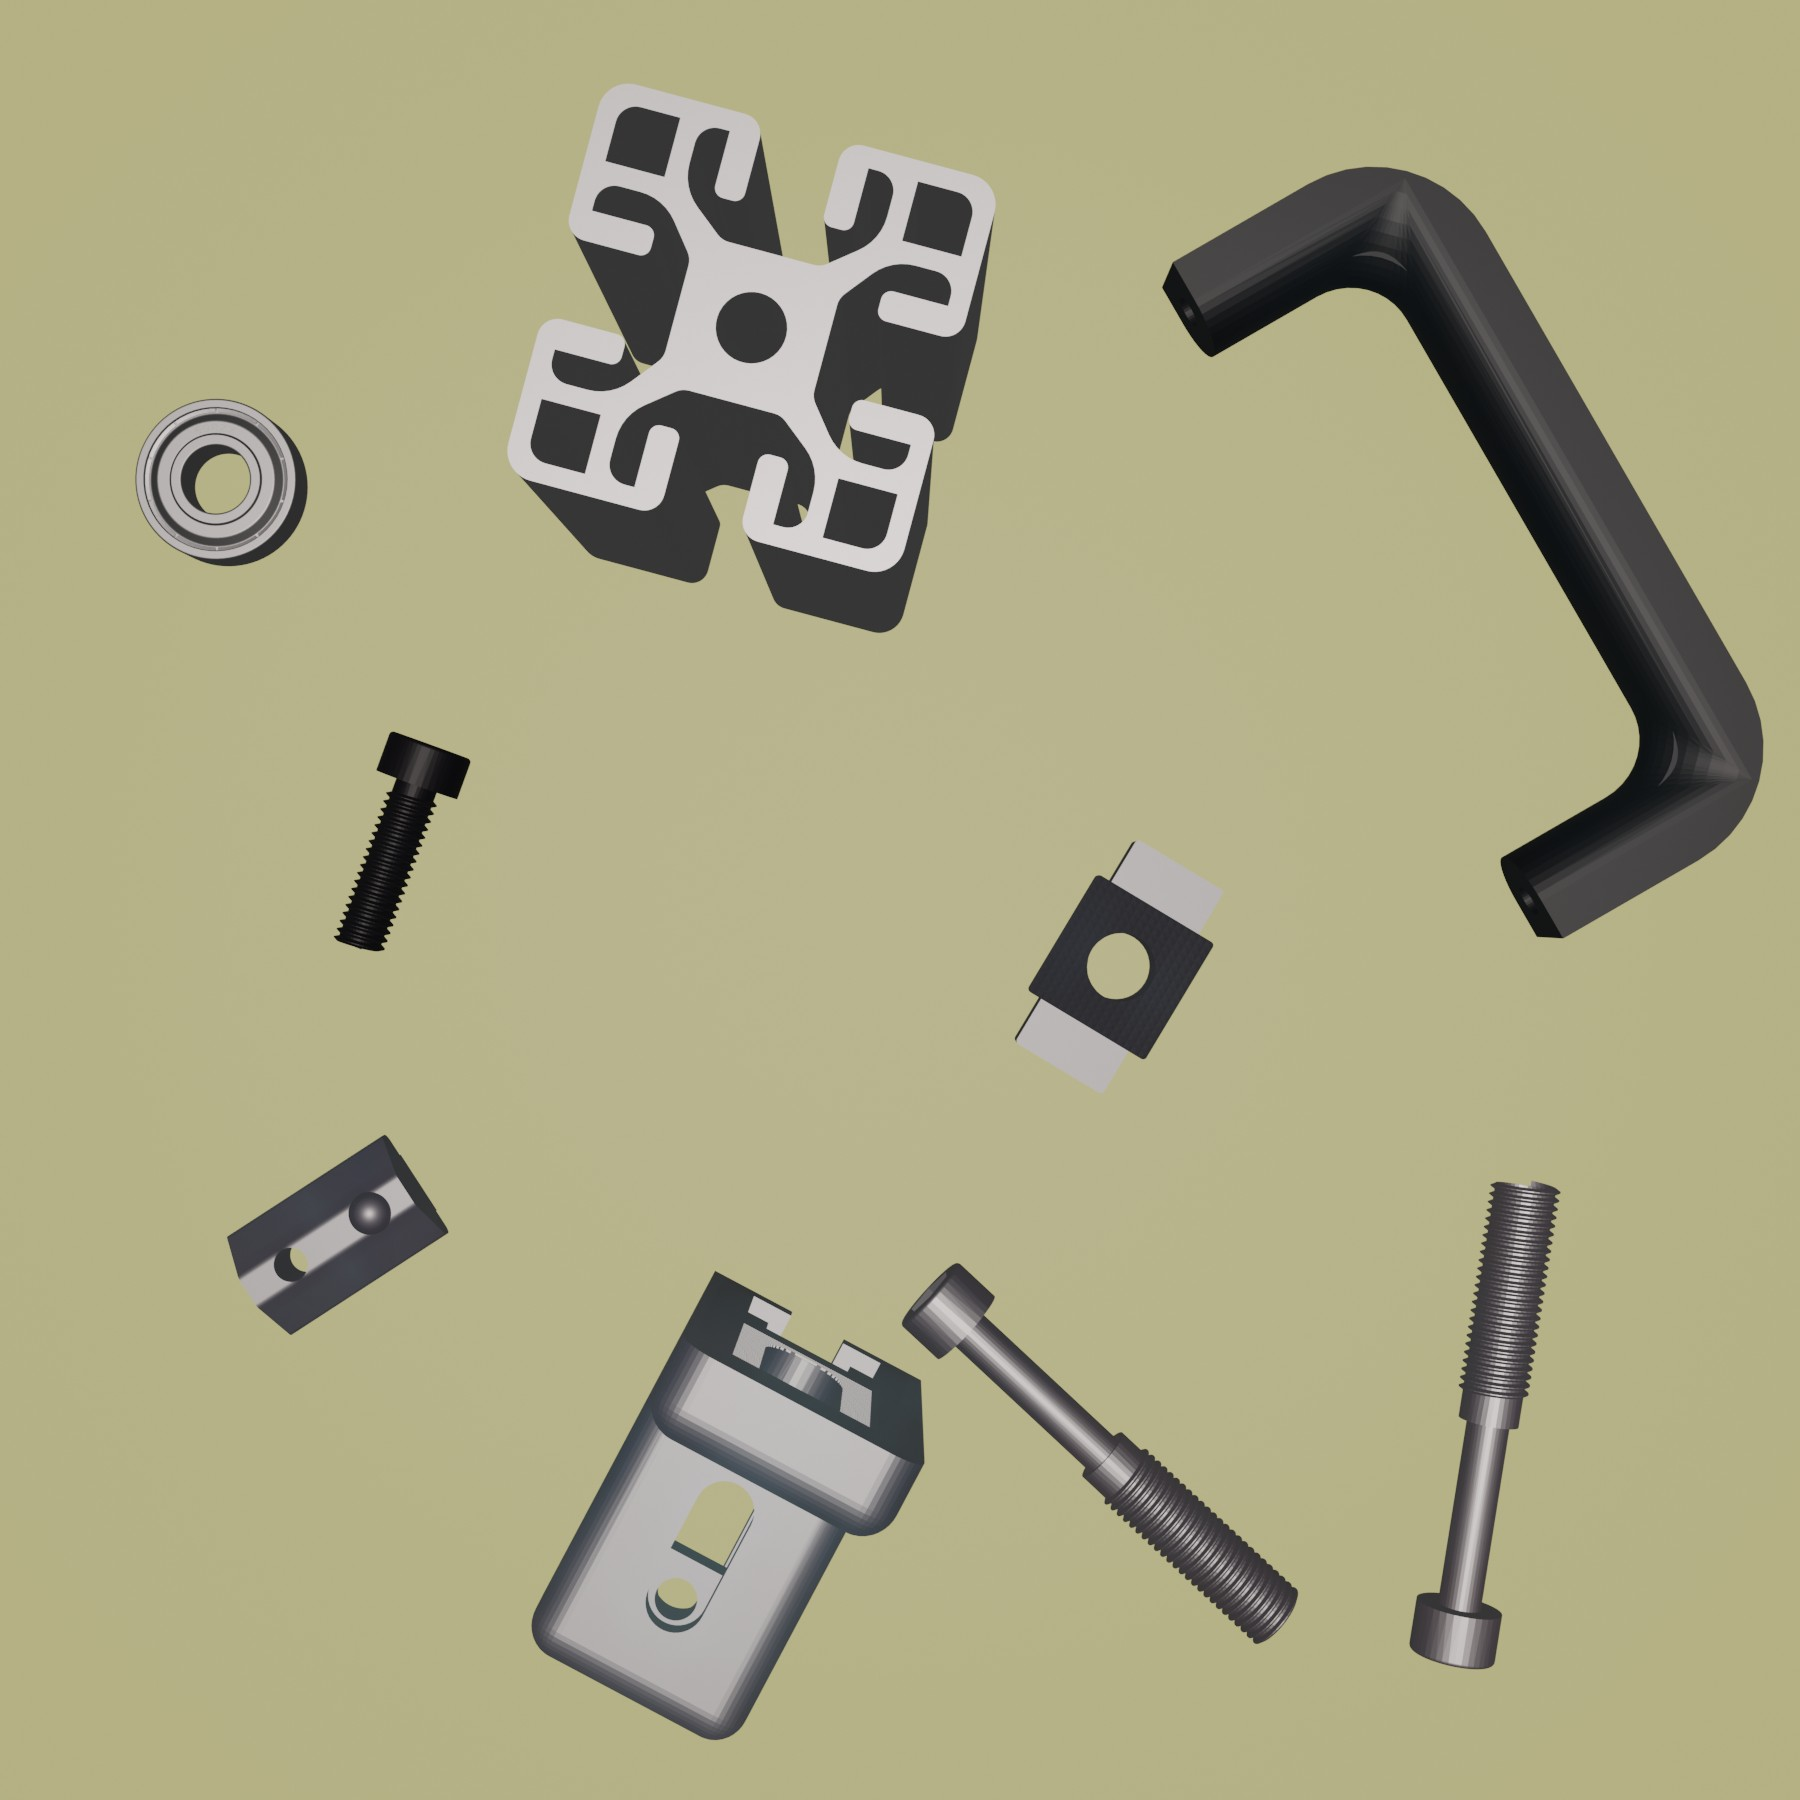Aluminium Extension: (504, 81, 1001, 638)
Ball Bearing: (132, 396, 308, 569)
Multiwinkel: (529, 1268, 928, 1741)
Pull Handle: (1159, 163, 1765, 941)
Shoulder Socket Head Cap Screw: (898, 1259, 1301, 1647), (1408, 1177, 1563, 1670)
Socket Head Cap Screw: (333, 727, 473, 954)
T Nut Square: (1012, 836, 1231, 1099)
T Spring Nut: (227, 1131, 450, 1337)
